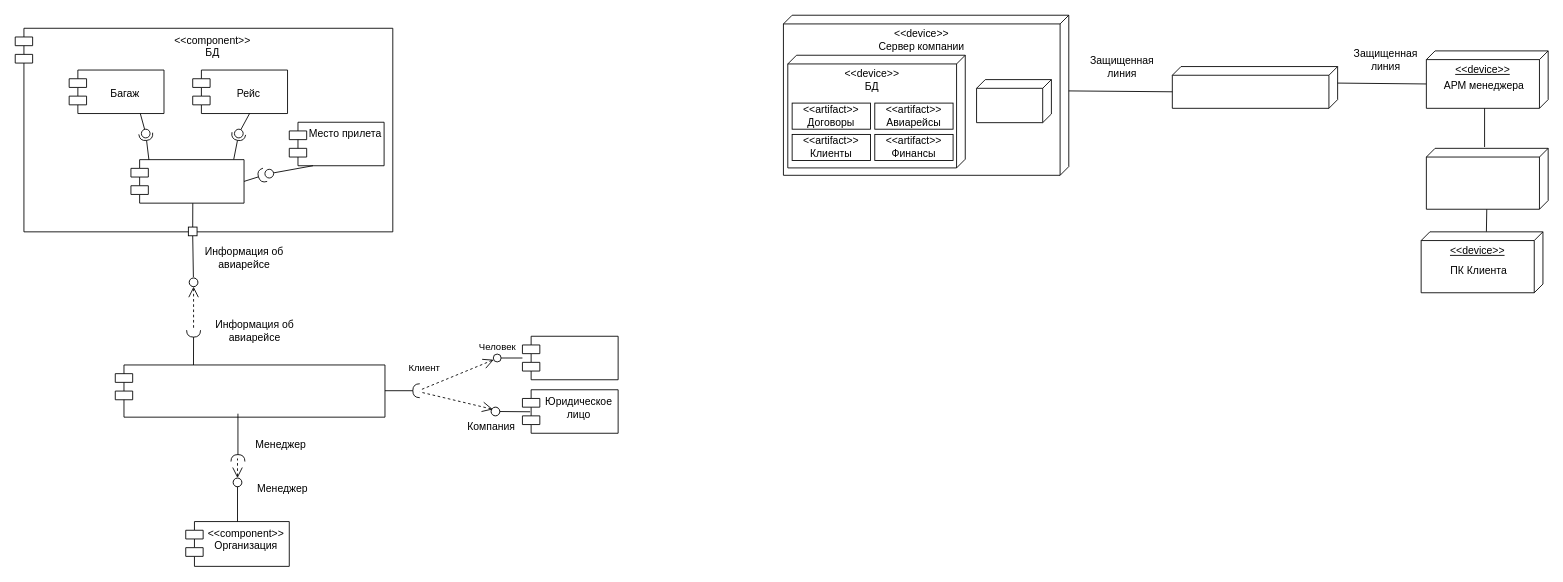
The diagram is 1563 pixels wide and 582 high, and some of its shapes have lost their labels. Here are the shapes that lost their labels. From the top down, the centre of each, then its label:
point (1013, 101): <<device>> СУБД
point (1254, 87): Локальная сеть компании
point (187, 181): Авиарейс
point (1486, 178): <<device>> Веб-сервер
point (570, 357): Физическое лицо
point (249, 390): <<component>> Оформление билета
